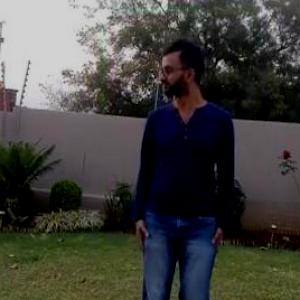follow: (120, 25, 246, 299)
